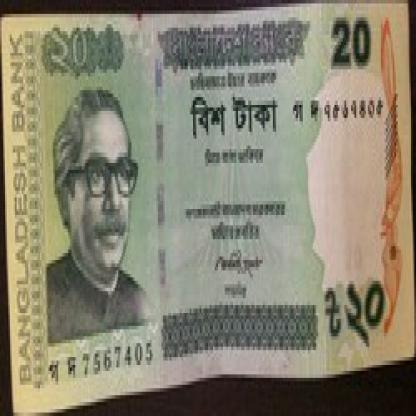Twenty: (321, 270, 388, 354), (188, 86, 283, 138), (48, 24, 126, 76), (328, 11, 376, 84)
